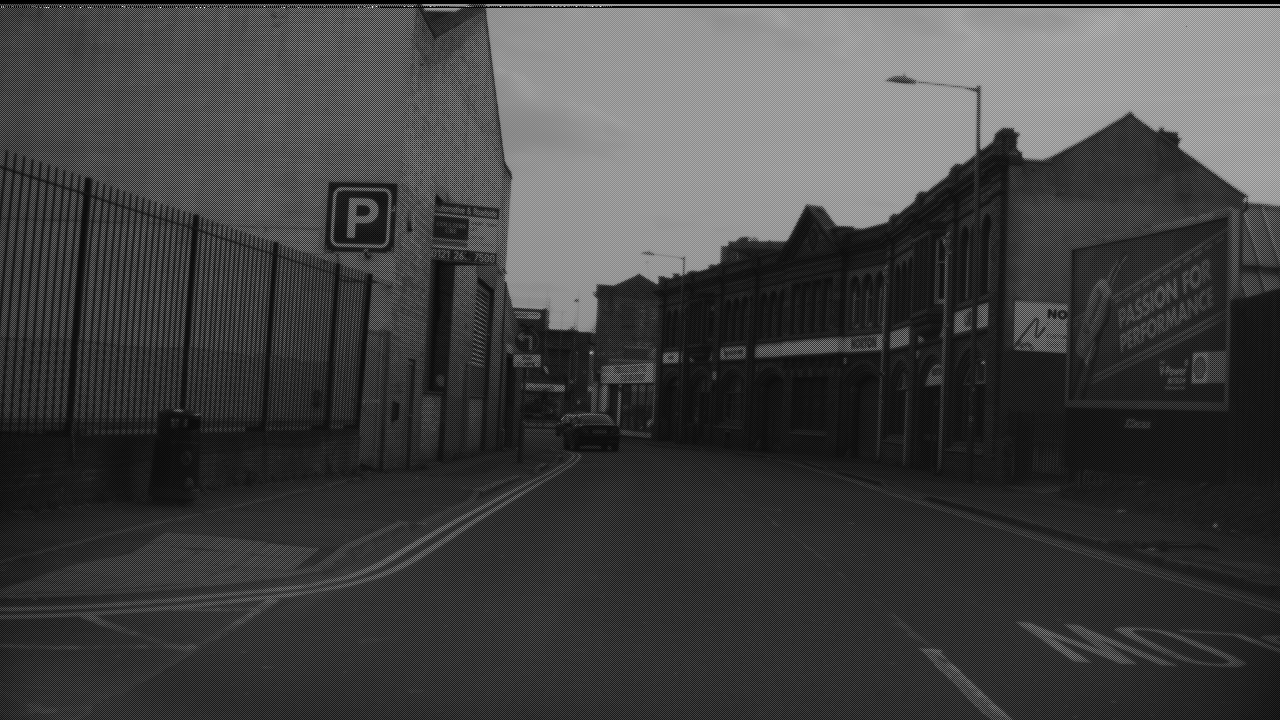pole: (296, 87, 308, 473)
